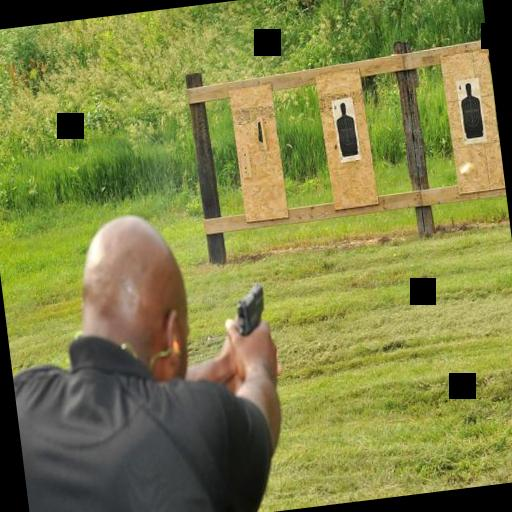Handgun: (228, 274, 271, 341)
